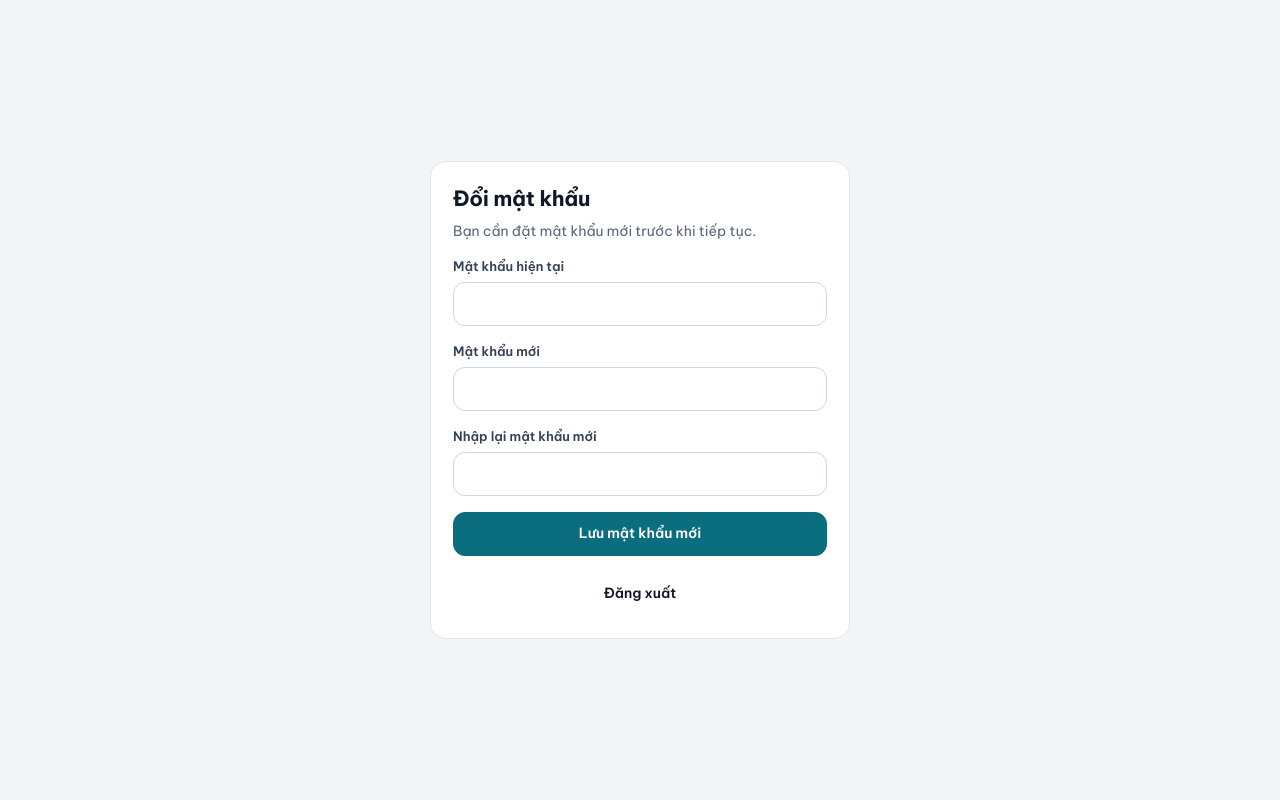
Test: ChangePasswordPage › lets the user log out instead
Step 1. Click the button "Đăng xuất" → (640,594), box [453,572,827,616]
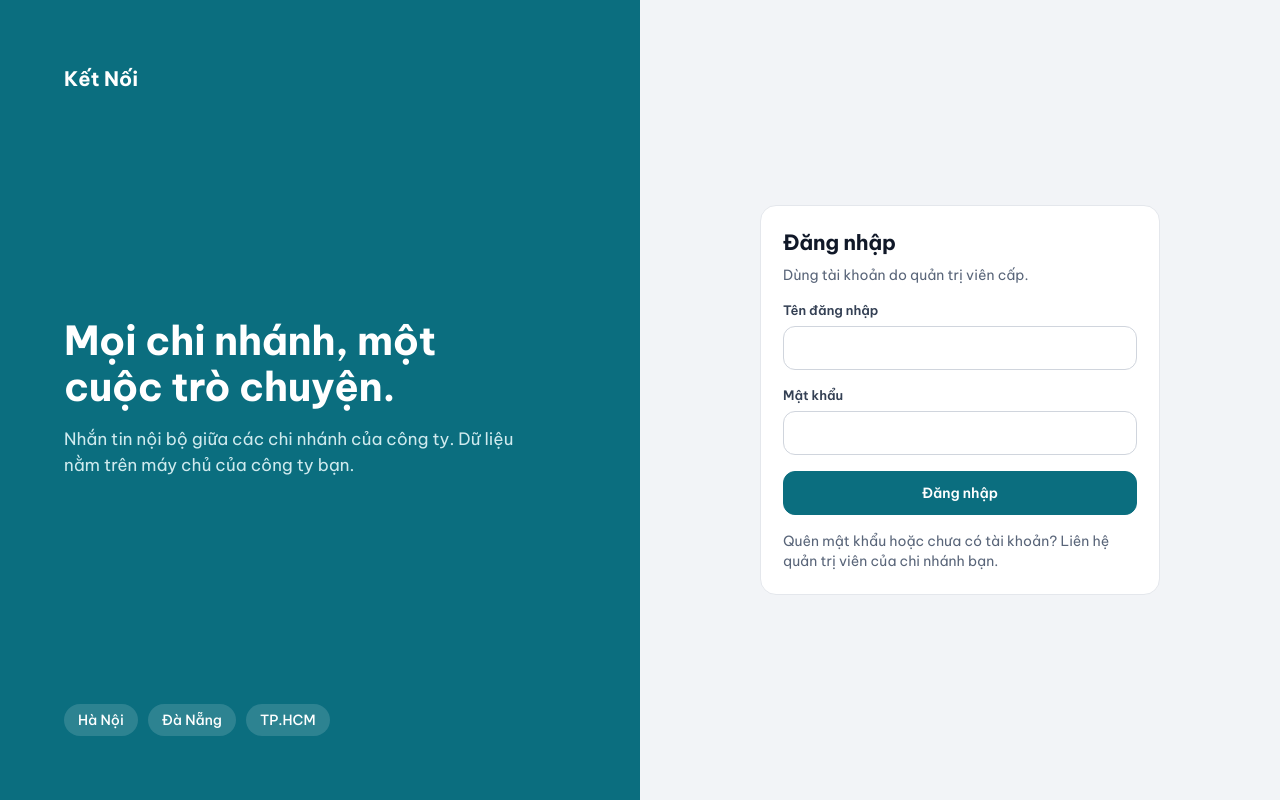
Check: the heading "Đăng nhập" is shown, box [783,230,896,256]
